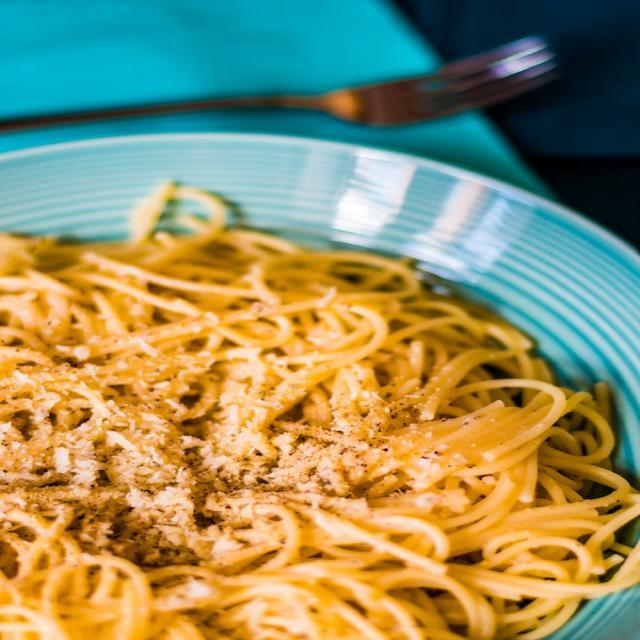Oil pasta: (19, 205, 635, 640)
